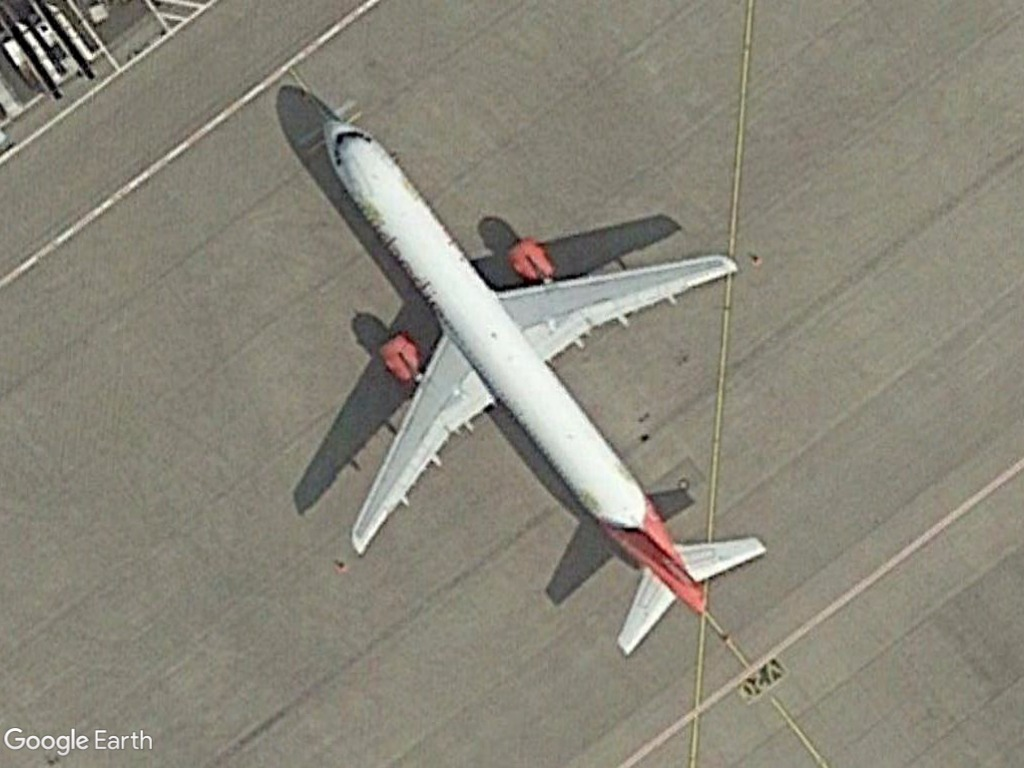airliner: (313, 108, 770, 664)
